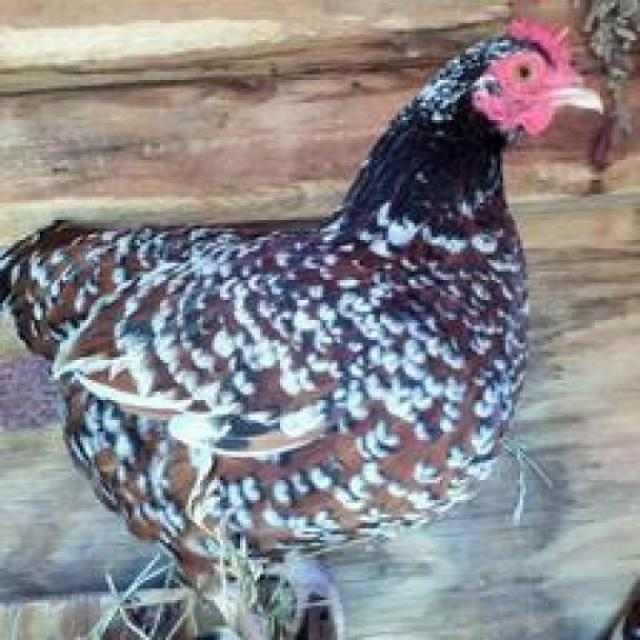Chicken: (38, 27, 614, 640)
